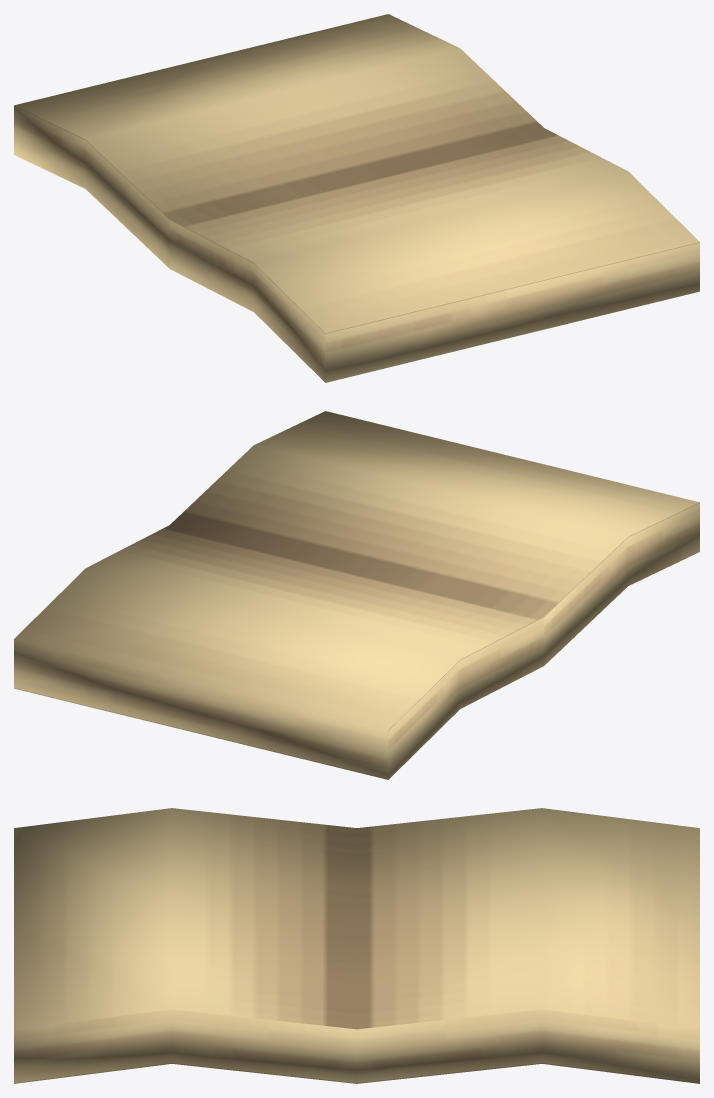
File: Livre2.glb
3 renders of one model, top to bottom at view 1: azimuth 30°, elevation 25°; view 2: azimuth 150°, elevation 25°; view 3: azimuth 270°, elevation 25°, orthographic. The views are drawn at different scales.
Parts seen in each view (by area): view 1: livre2; view 2: livre2; view 3: livre2.
Boxes of the visible parts, x1,y1,x2,y2 form: livre2: (14,14,699,382); livre2: (14,411,699,779); livre2: (14,808,699,1083).
Size of the model in its own units: 0.7446 by 0.1289 by 1.07.
1 material, 1 textured.
